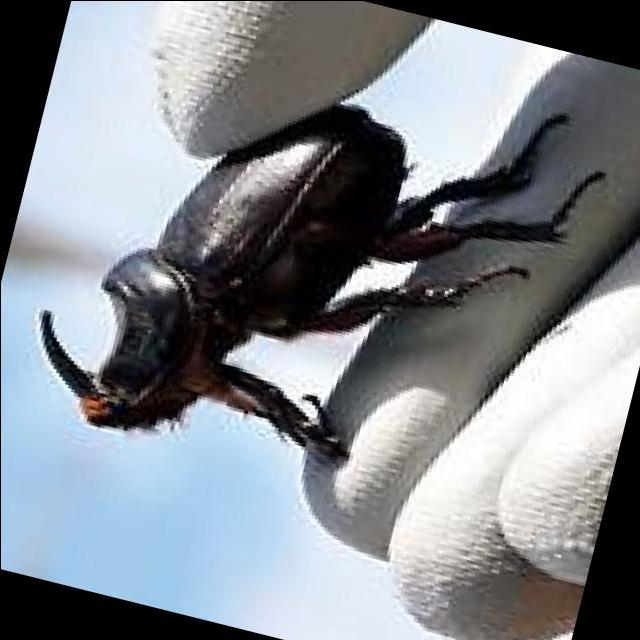Rhino-beetle: (38, 81, 422, 445)
